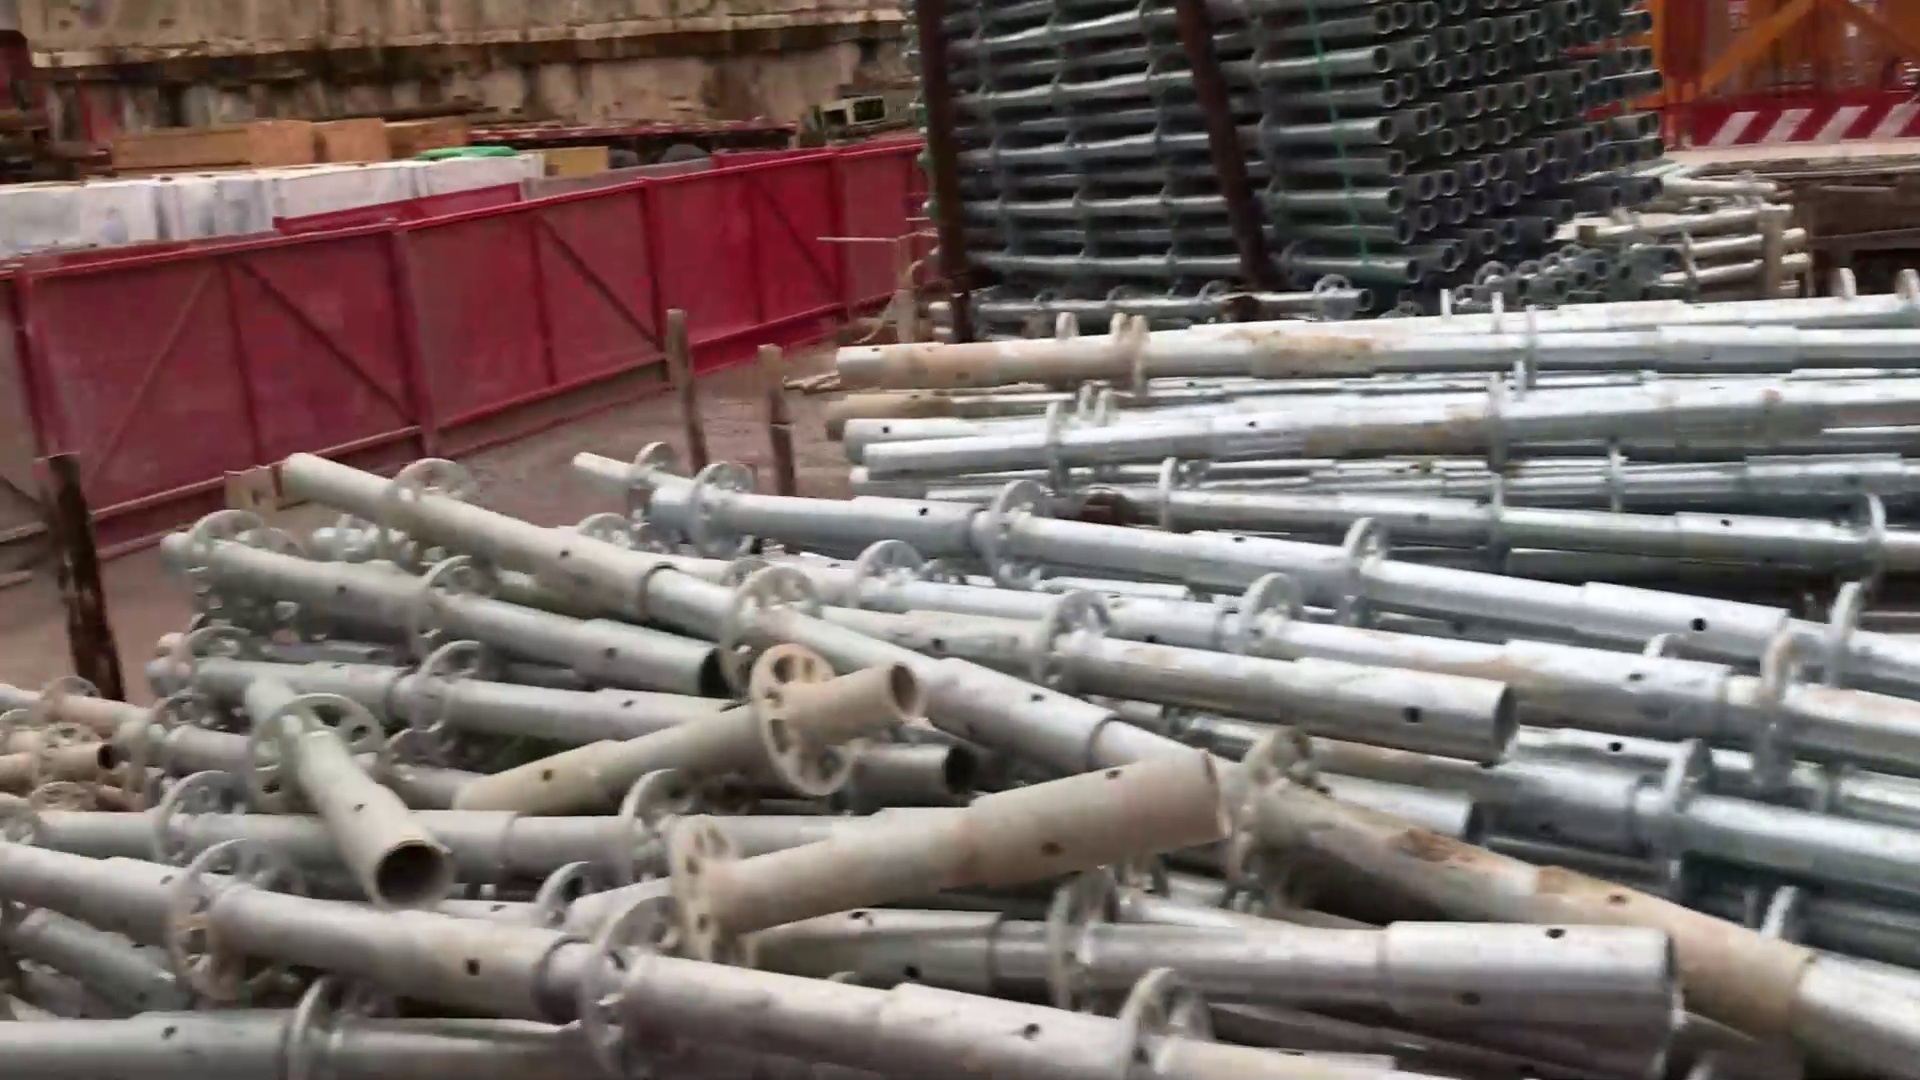fence: (144, 189, 688, 506)
scaffold: (75, 323, 1920, 1062), (901, 13, 1692, 301)
wood: (115, 108, 397, 175)
